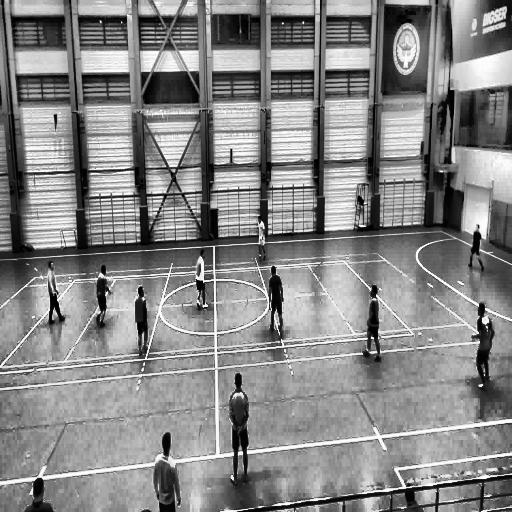ball: (278, 324, 282, 333)
player: (229, 373, 249, 486), (154, 431, 181, 512), (472, 303, 493, 390), (361, 284, 381, 363), (47, 261, 66, 325), (268, 265, 283, 338), (135, 286, 148, 358), (194, 248, 209, 310), (96, 263, 110, 327), (468, 224, 484, 271), (257, 216, 265, 262)
